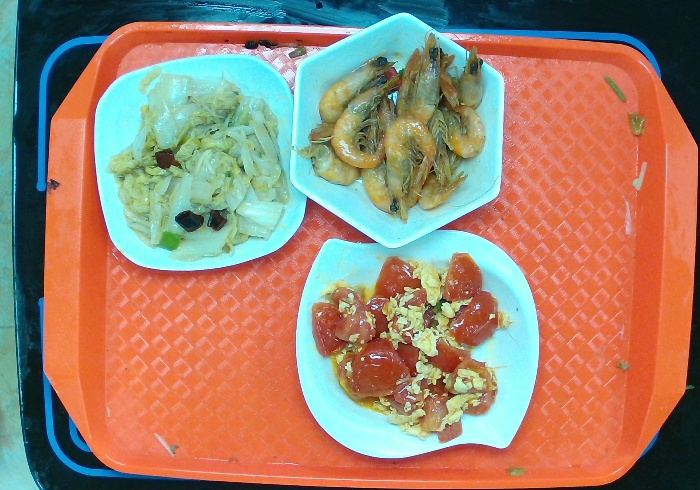RJxy-Liu_Jiao_Wan: (285, 9, 514, 252)
RJxy-Shuang_Jiao_Pan: (289, 227, 543, 462)
RJxy-Si_Fang_Wan: (90, 51, 310, 274)
